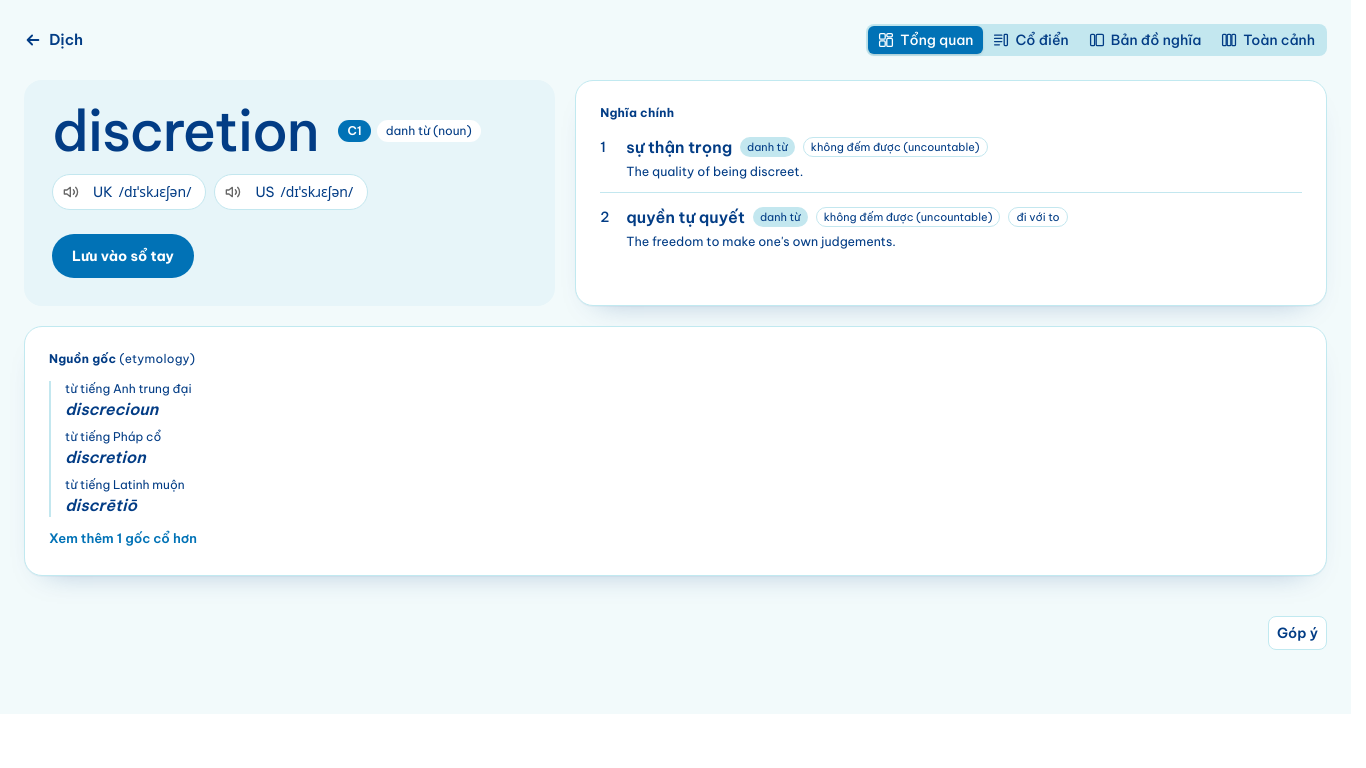
Test: word notes › carries the notes into Bản đồ nghĩa
What coordinates should you click on to do the following:
click the button "Bản đồ nghĩa"
I would click on:
 (1145, 40)
Its box is [1079,26,1211,54].
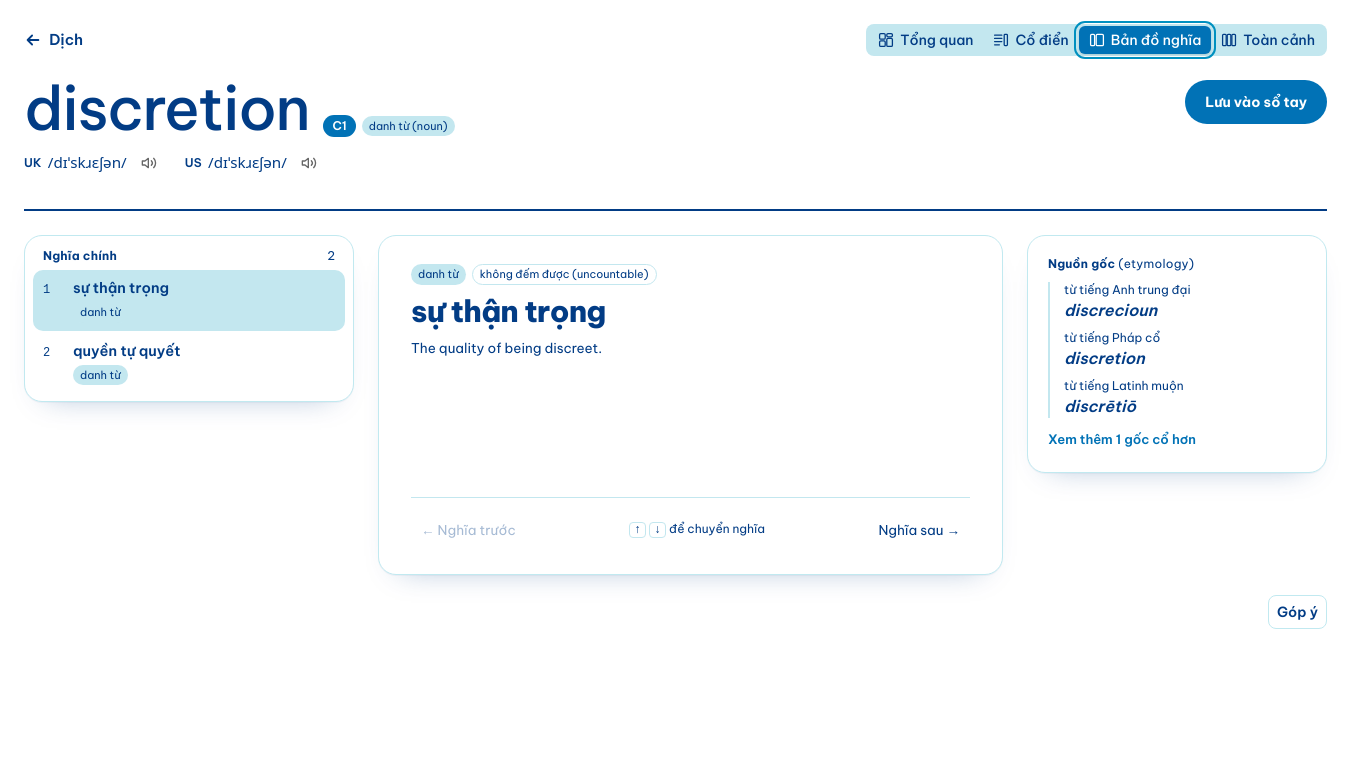
Expected: the heading "Nguồn gốc (etymology)" is shown, [1048,256,1194,271]
Expected: the text "không đếm được" is shown, [480,267,570,281]
